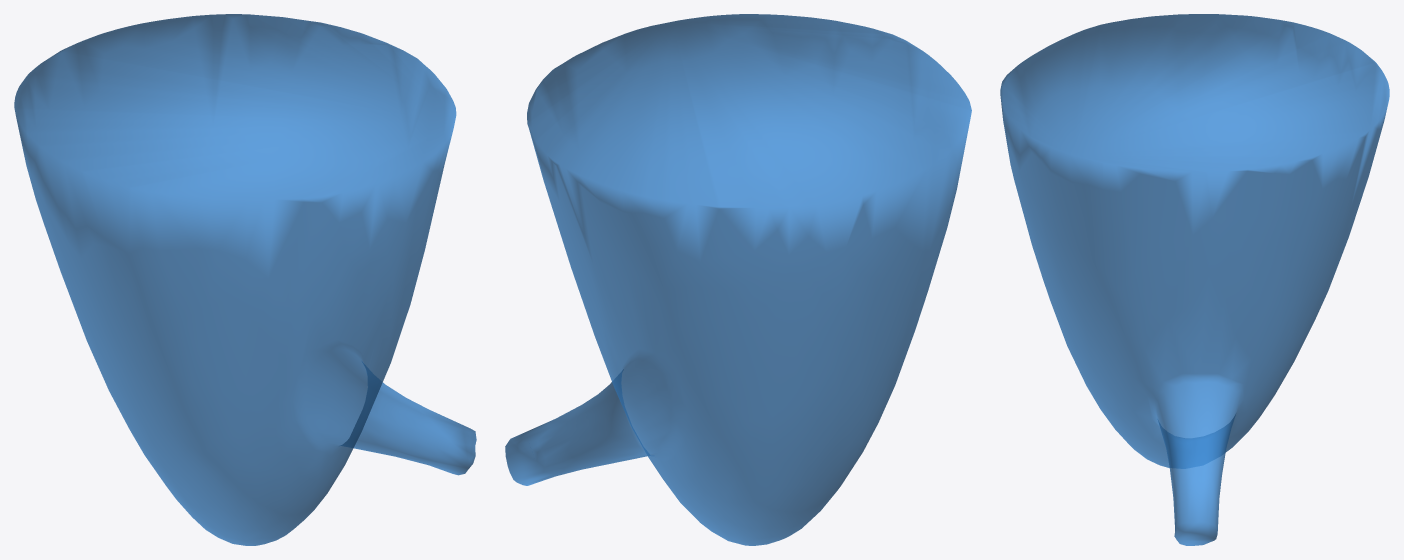
File: AlchemyGlassLiquid2.fbx
3 views of the same model, side by side, from view 1: azimuth 30°, elevation 25°; view 2: azimuth 150°, elevation 25°; view 3: azimuth 270°, elevation 25° (orthographic). The views are drawn at different scales.
Parts seen in each view (by area): view 1: lp.001; view 2: lp.001; view 3: lp.001.
Part boxes in pixels (<box>): lp.001: <box>14,14,476,545</box>; lp.001: <box>505,14,971,545</box>; lp.001: <box>1000,14,1389,545</box>.
Size of the model in its own units: 89.36 by 86.01 by 81.94.
